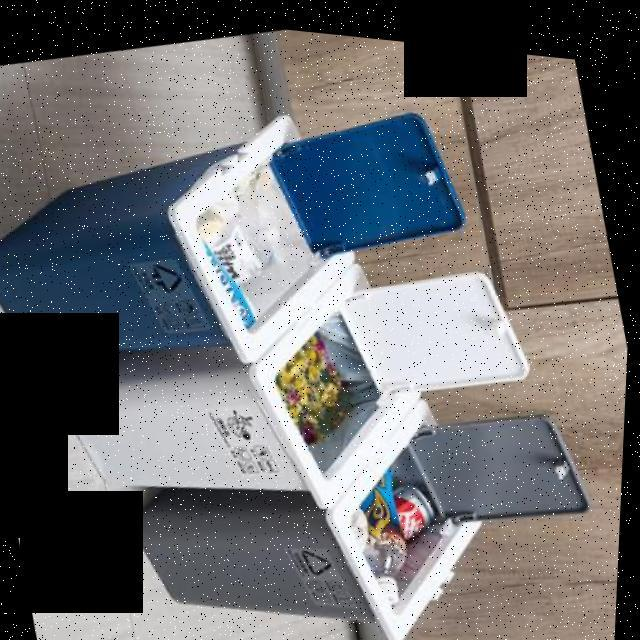bin: (0, 64, 385, 424), (49, 272, 450, 548)
